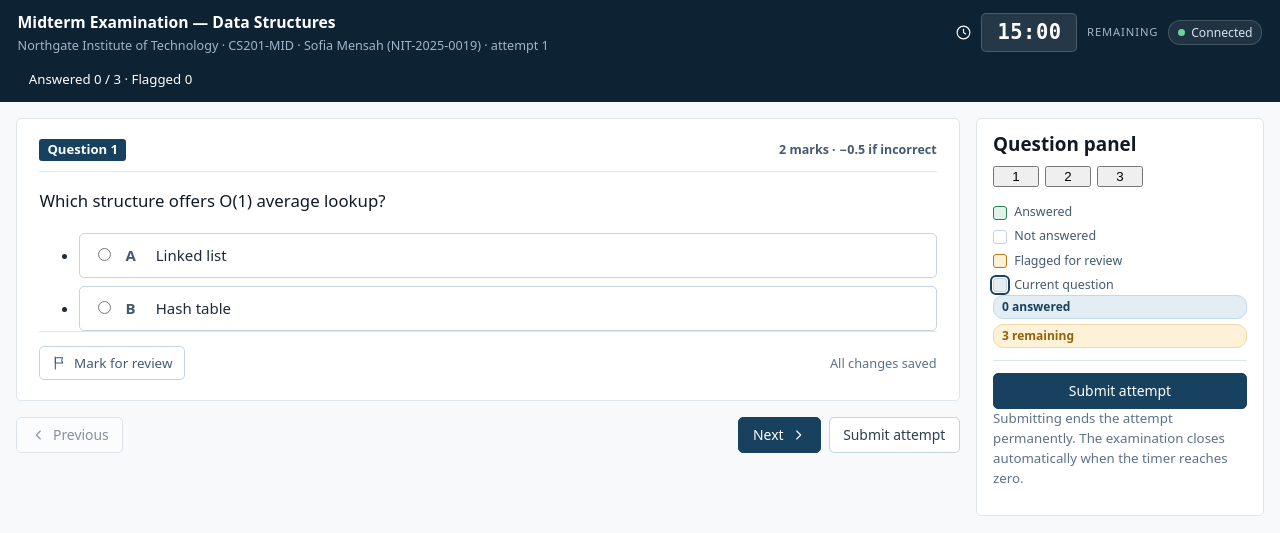
it: TakeAttemptPage › moves between questions using the next/previous controls and the question panel
Expected: the text "Which structure offers O(1) average lookup?" is shown, left=39, top=189, right=386, bottom=212
Click the button "Next".
click(779, 435)  # box left=738, top=417, right=820, bottom=453
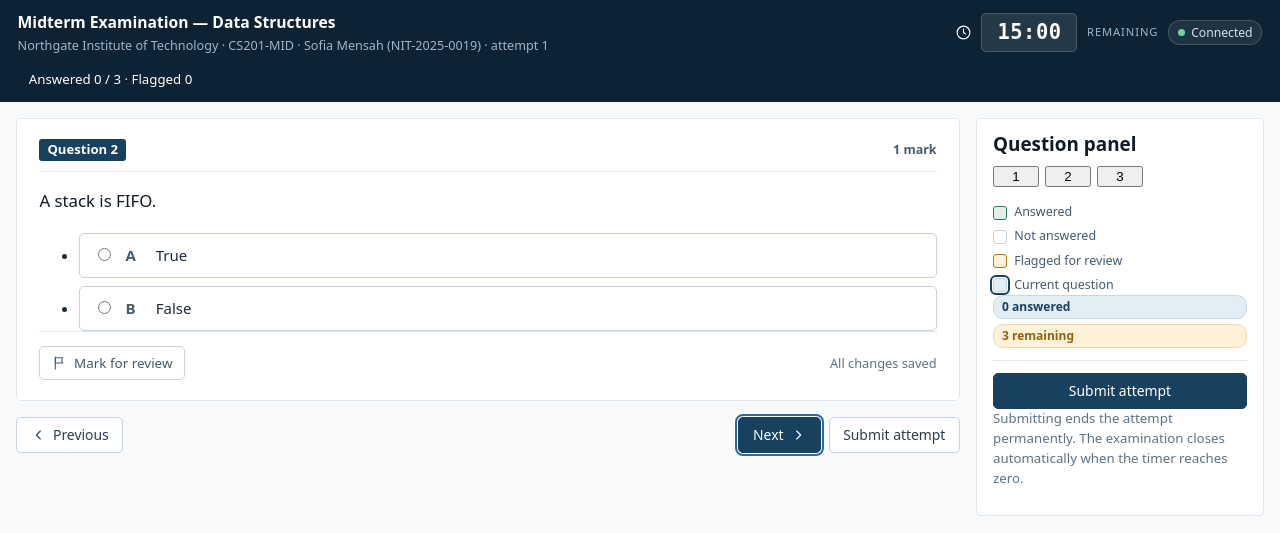
Result: the text "A stack is FIFO." is shown at left=39, top=189, right=156, bottom=212
Note: The question panel exposes state through accessible labels, not colour alone.
Click the button named "question 1,".
click(1016, 177)  # box left=993, top=166, right=1039, bottom=187
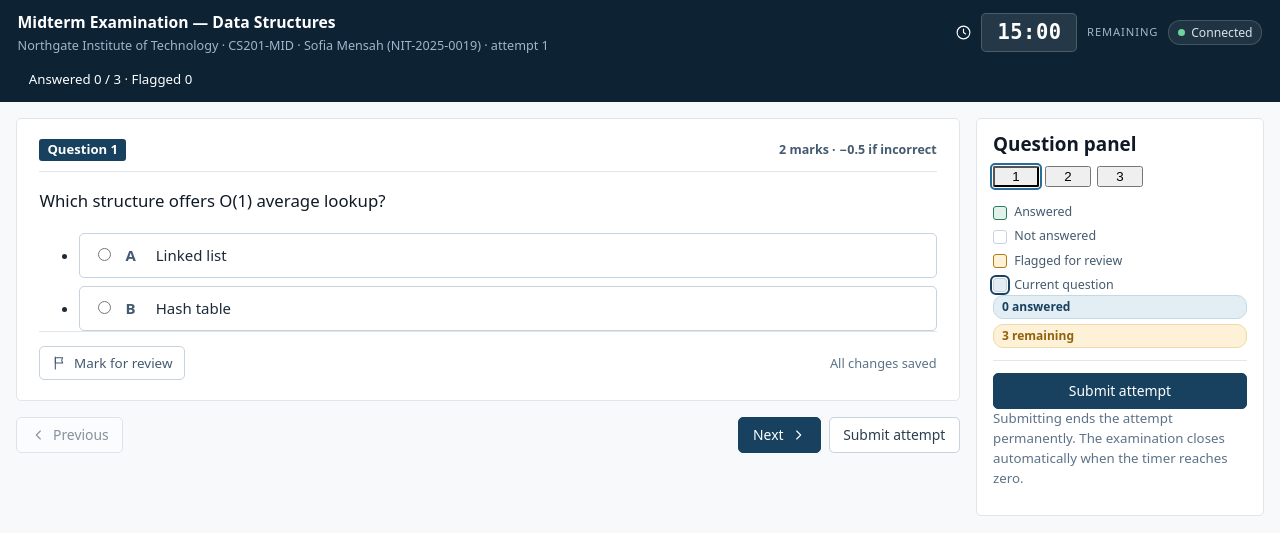
Result: the text "Which structure offers O(1) average lookup?" is shown at left=39, top=189, right=386, bottom=212
